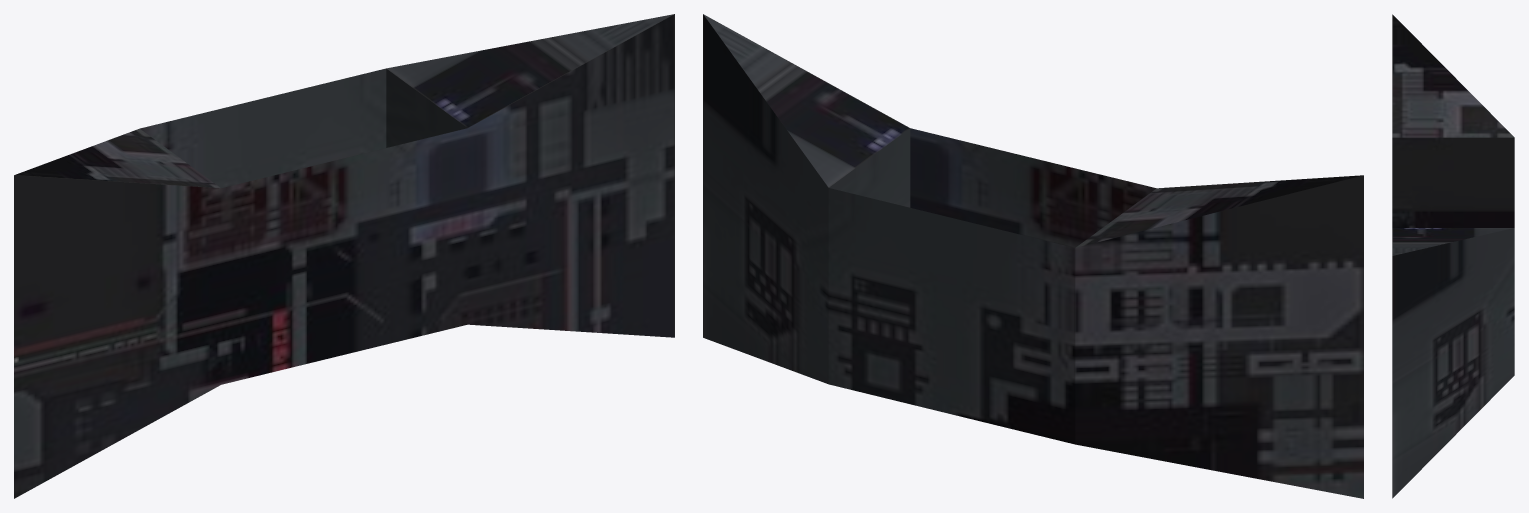
File: Building.dae
3 views of the same model, side by side, from view 1: azimuth 30°, elevation 25°; view 2: azimuth 150°, elevation 25°; view 3: azimuth 270°, elevation 25° (orthographic). The views are drawn at different scales.
Parts seen in each view (by area): view 1: Building; view 2: Building; view 3: Building.
Boxes of the visible parts, left/top/right/bottom form: Building: left=14, top=14, right=674, bottom=498; Building: left=703, top=14, right=1363, bottom=498; Building: left=1392, top=14, right=1514, bottom=498.
Size of the model in its own units: 22.52 by 4.81 by 10.54.
1 material, 1 textured.
